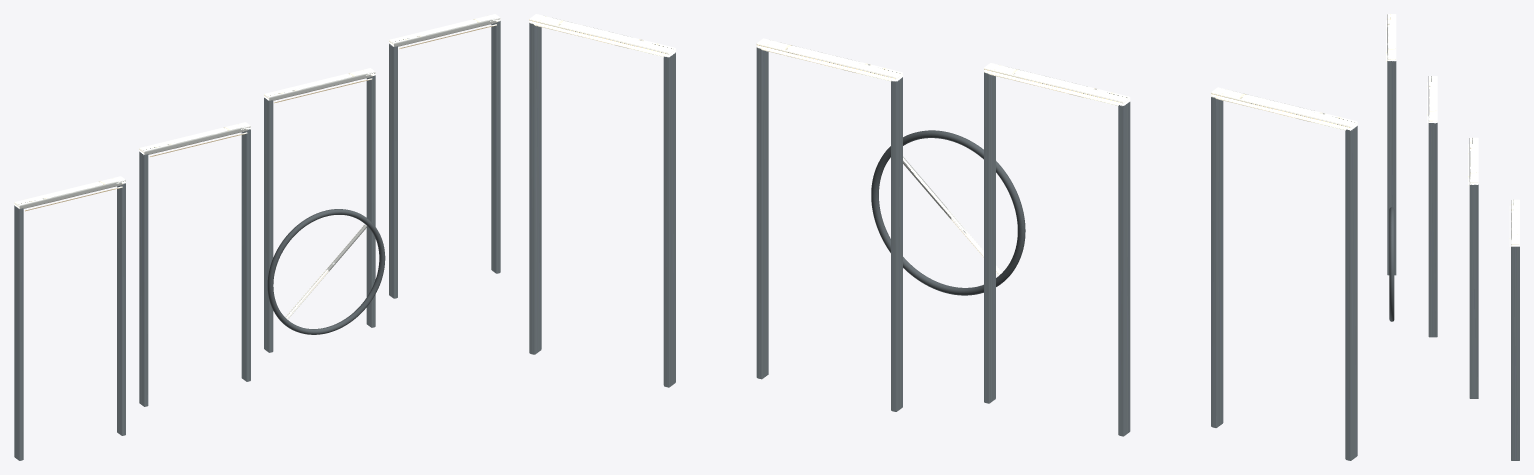
The model's file is manifesto.glb.
3 views of the same model, side by side, from view 1: azimuth 30°, elevation 25°; view 2: azimuth 150°, elevation 25°; view 3: azimuth 270°, elevation 25° (orthographic). The views are drawn at different scales.
Parts seen in each view (by area): view 1: Static_manifesto, Spin_Compass; view 2: Static_manifesto, Spin_Compass; view 3: Static_manifesto, Spin_Compass.
Part boxes in pixels (left/top/right/bottom): Static_manifesto: left=14, top=14, right=500, bottom=460; Spin_Compass: left=267, top=209, right=385, bottom=334; Static_manifesto: left=529, top=14, right=1357, bottom=460; Spin_Compass: left=871, top=130, right=1025, bottom=295; Static_manifesto: left=1386, top=14, right=1519, bottom=460; Spin_Compass: left=1389, top=207, right=1394, bottom=321.
Bounding box in the file's own units: 11.9 × 5.25 × 2.93.
Materials: 4 (2 with a texture image).
